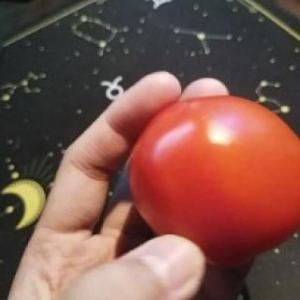tomato: (116, 96, 300, 270)
